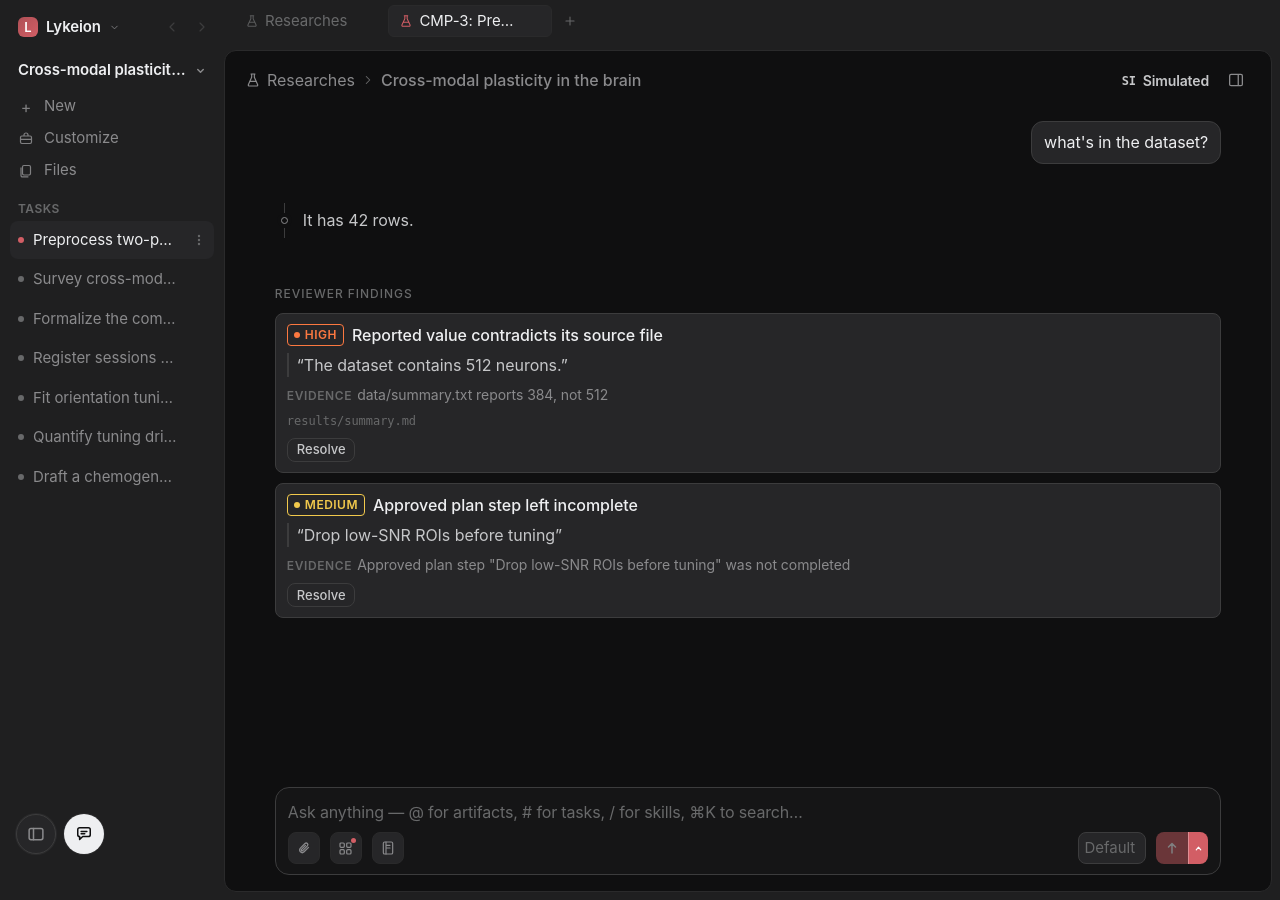
the live region is scoped to the in-flight turn › gives the live turn aria-live/aria-atomic/role=log, and gives the historic transcript none of it
The width and height of the screenshot is (1280, 900).
Check: the text "It has 42 rows." is shown, box [303, 210, 414, 230]
Type "and now?" into the text box named "Message the agent" at point(748, 812), box [288, 800, 1208, 824]
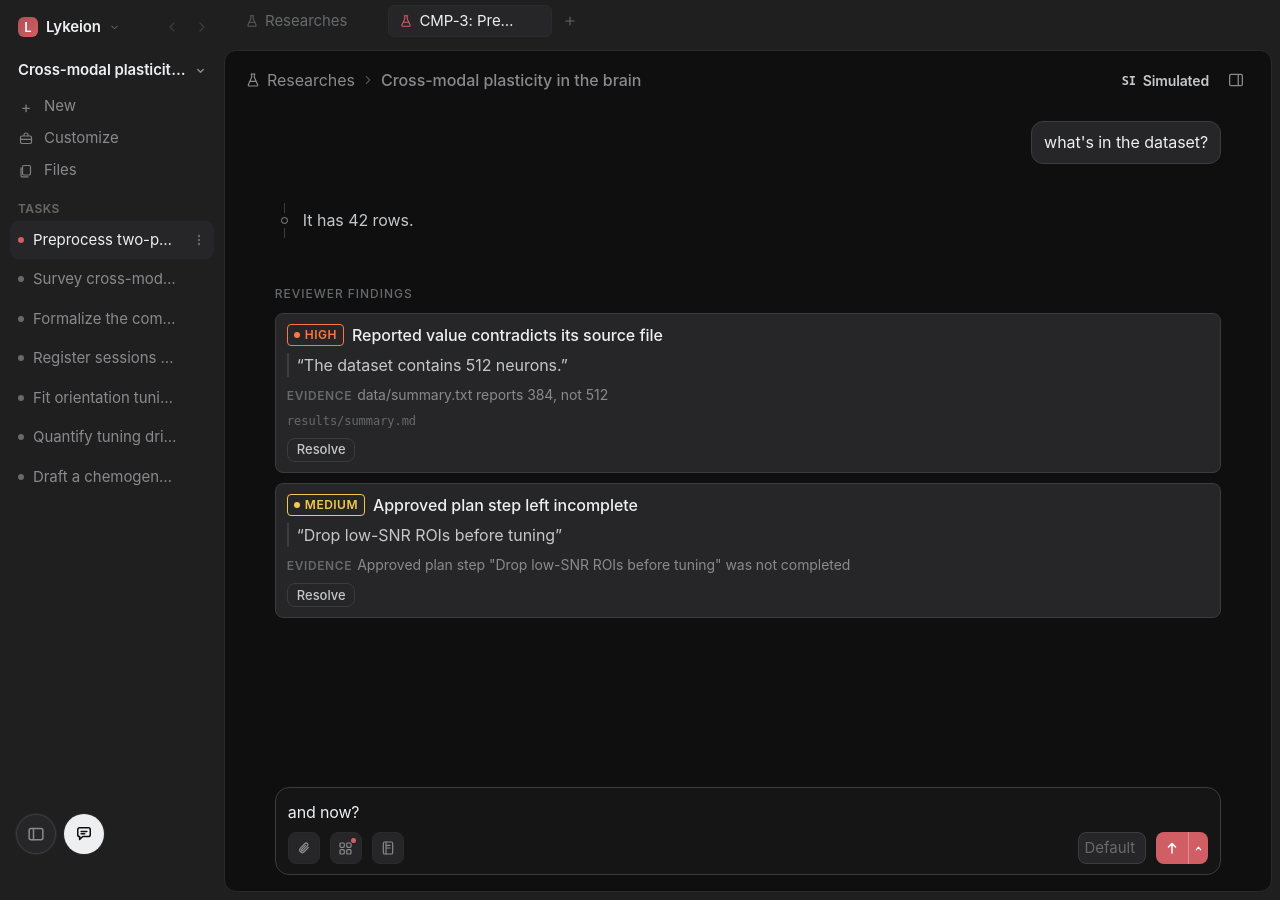
Click the button named "Send" at point(1172, 848), box [1156, 832, 1188, 864]
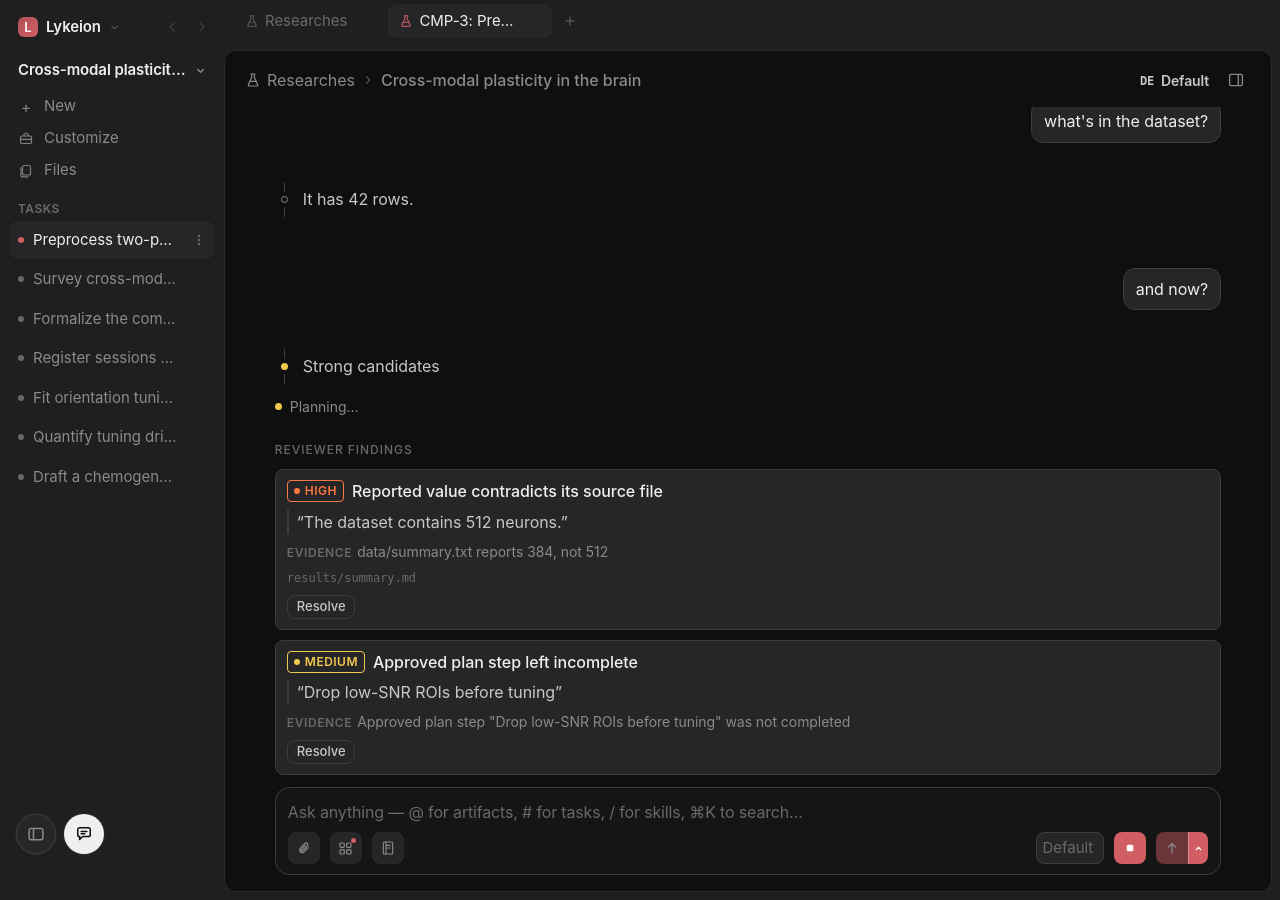
Check: the element with test id "live-text" is shown, box [303, 356, 440, 376]
